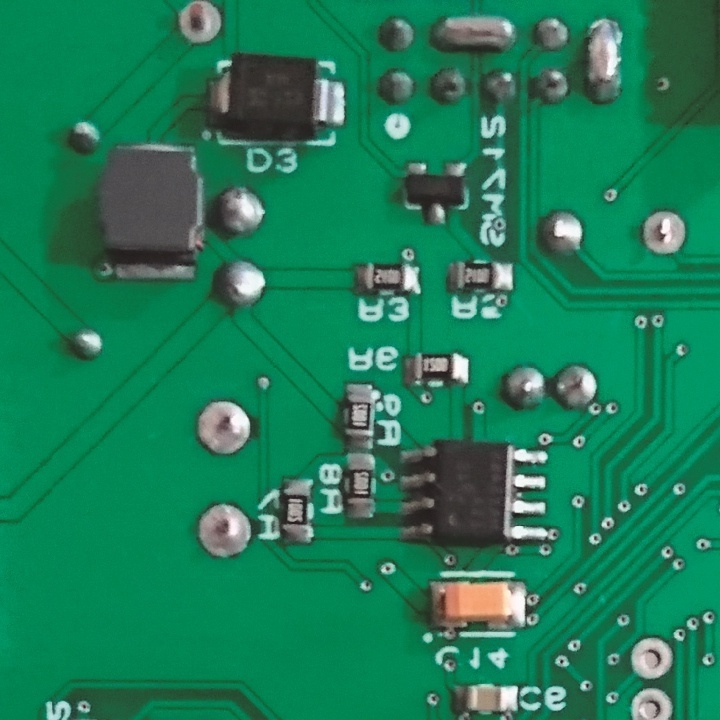F: (198, 500, 253, 563), (195, 399, 253, 458), (636, 209, 690, 257), (178, 1, 226, 49), (630, 633, 676, 681), (627, 682, 674, 720)
P: (430, 10, 518, 54), (584, 17, 627, 103)
